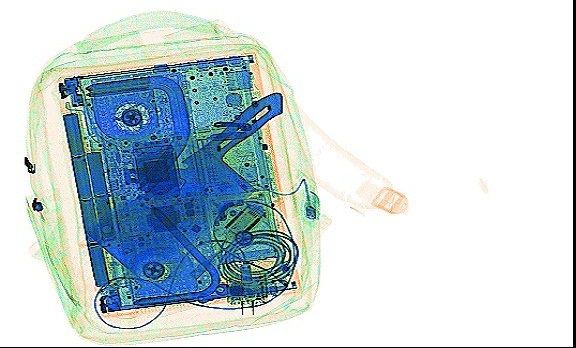knife: (84, 90, 284, 282)
